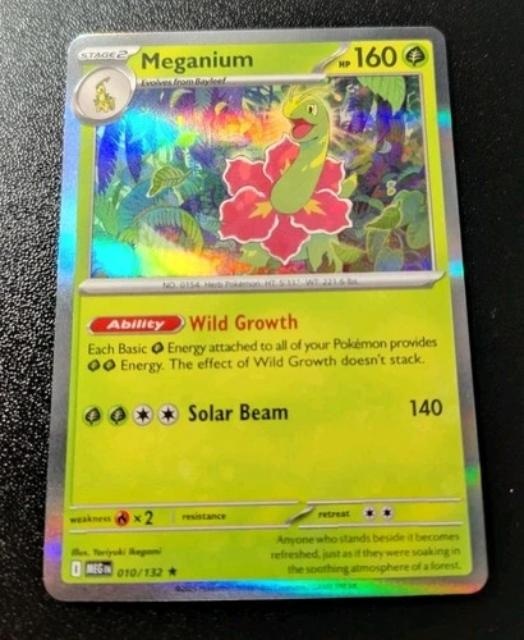Card: (37, 20, 493, 605)
Name: (137, 45, 260, 76)
